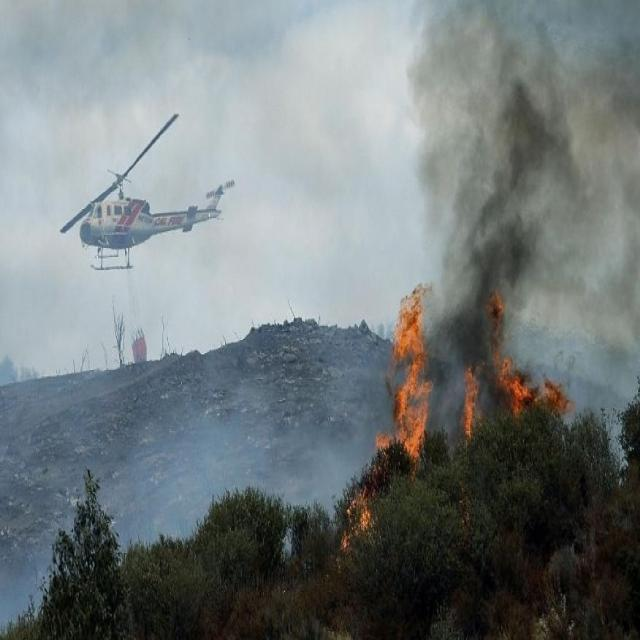Fire: (381, 274, 448, 462), (458, 349, 530, 432), (350, 479, 373, 534)
Smoke: (413, 6, 635, 318), (65, 362, 312, 542)
